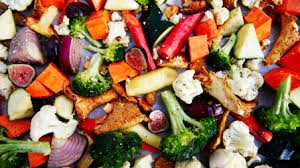kitchen_waste: (156, 86, 219, 156), (157, 10, 208, 62), (256, 74, 300, 134), (120, 9, 158, 71), (27, 102, 81, 142), (1, 124, 50, 168), (218, 116, 266, 160), (263, 11, 300, 66), (95, 95, 149, 132), (25, 59, 70, 102), (45, 128, 92, 167), (71, 52, 111, 97), (122, 66, 178, 94), (224, 64, 264, 102), (7, 26, 45, 66), (241, 4, 277, 41), (3, 85, 39, 122), (56, 35, 88, 76), (233, 22, 266, 60), (67, 16, 101, 49), (209, 29, 237, 69), (85, 38, 127, 62), (83, 9, 111, 42), (118, 45, 151, 73), (6, 61, 34, 90), (187, 35, 212, 60), (1, 7, 16, 42)
